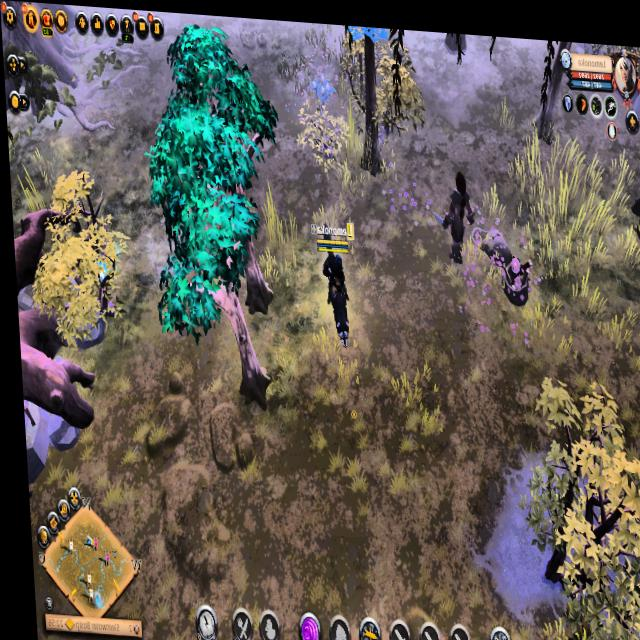wood tier 3: (142, 98, 262, 350), (167, 17, 281, 207)
